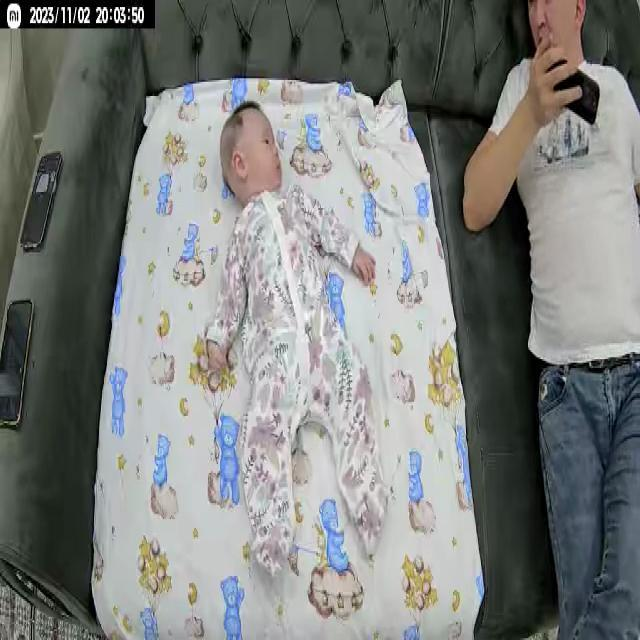baby: (196, 91, 394, 575)
